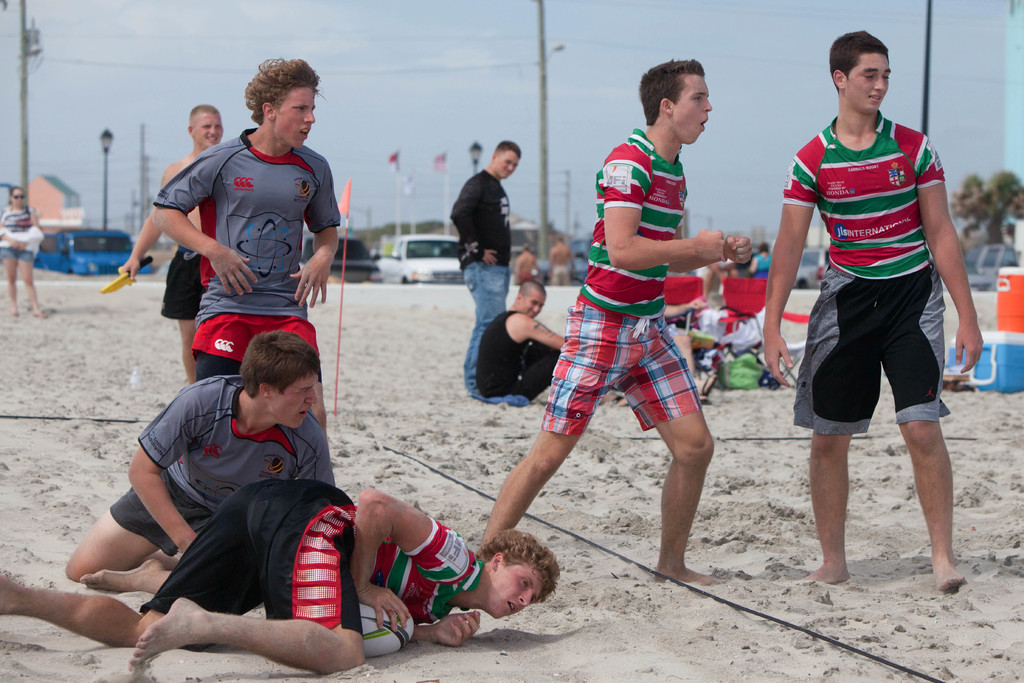Person: (0, 29, 983, 673)
